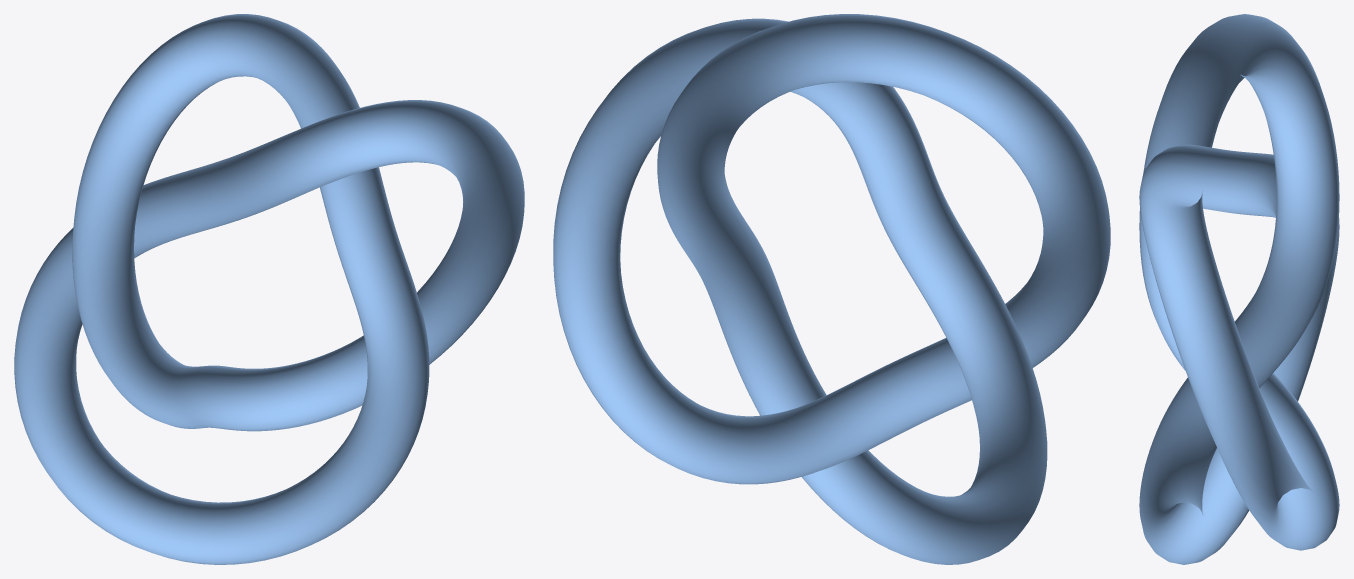
The model's file is good.glb.
3 renders of one model, left to right at view 1: azimuth 30°, elevation 25°; view 2: azimuth 150°, elevation 25°; view 3: azimuth 270°, elevation 25°, orthographic. The views are drawn at different scales.
Visible parts, largest first — view 1: torus-knot; view 2: torus-knot; view 3: torus-knot.
Part boxes in pixels (box(x1,y1,x2,y2)): torus-knot: box(14, 14, 524, 564); torus-knot: box(553, 14, 1110, 564); torus-knot: box(1139, 14, 1339, 564).
Bounding box in the file's own units: 2.77 × 2.89 × 1.02.
